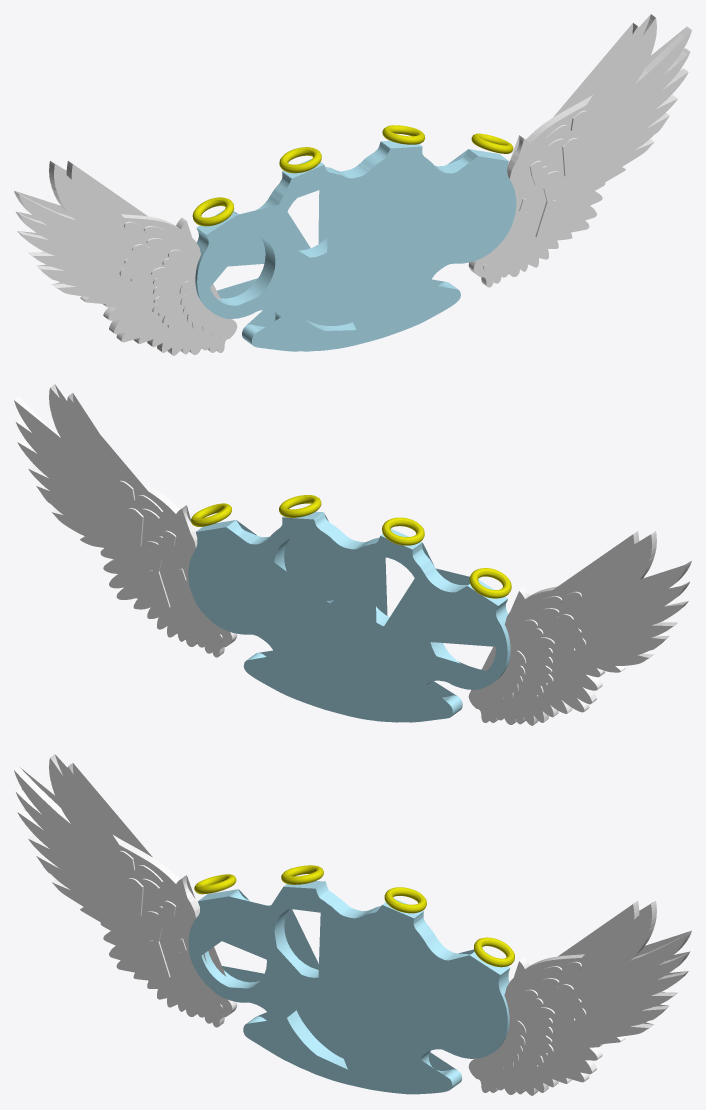
File: LuzModelo.fbx
3 views of the same model, one above another, from view 1: azimuth 30°, elevation 25°; view 2: azimuth 150°, elevation 25°; view 3: azimuth 330°, elevation 25° (orthographic).
Visible parts, largest first — view 1: BezierCurve, BezierCurve.003, BezierCurve.010, BezierCurve.005, BezierCurve.012, BezierCurve.004, BezierCurve.013, BezierCurve.011, BezierCurve.006, Torus, Torus.002, Torus.003 (+1 smaller); view 2: BezierCurve, BezierCurve.010, BezierCurve.003, BezierCurve.009, BezierCurve.016, BezierCurve.014, BezierCurve.015, BezierCurve.008, BezierCurve.007, Torus, Torus.002, Torus.003 (+1 smaller); view 3: BezierCurve, BezierCurve.010, BezierCurve.003, BezierCurve.012, BezierCurve.005, BezierCurve.006, BezierCurve.011, BezierCurve.004, BezierCurve.013, Torus.001, Torus.003, Torus.002 (+1 smaller).
Boxes of the visible parts, left/top/right/bottom form: BezierCurve: left=195, top=140, right=516, bottom=351; BezierCurve.003: left=468, top=14, right=691, bottom=287; BezierCurve.010: left=14, top=161, right=237, bottom=355; BezierCurve.005: left=543, top=110, right=592, bottom=177; BezierCurve.012: left=119, top=221, right=168, bottom=283; BezierCurve.004: left=529, top=160, right=560, bottom=239; BezierCurve.013: left=179, top=280, right=228, bottom=339; BezierCurve.011: left=151, top=249, right=182, bottom=329; BezierCurve.006: left=483, top=198, right=531, bottom=273; Torus: left=192, top=197, right=234, bottom=226; Torus.002: left=279, top=147, right=321, bottom=173; Torus.003: left=382, top=125, right=424, bottom=144; BezierCurve: left=188, top=511, right=510, bottom=722; BezierCurve.010: left=468, top=531, right=691, bottom=725; BezierCurve.003: left=14, top=384, right=237, bottom=657; BezierCurve.009: left=113, top=480, right=162, bottom=547; BezierCurve.016: left=537, top=591, right=586, bottom=653; BezierCurve.014: left=477, top=650, right=526, bottom=709; BezierCurve.015: left=523, top=619, right=554, bottom=699; BezierCurve.008: left=145, top=530, right=176, bottom=608; BezierCurve.007: left=173, top=568, right=222, bottom=644; Torus: left=469, top=568, right=511, bottom=598; Torus.002: left=382, top=517, right=424, bottom=545; Torus.003: left=279, top=495, right=321, bottom=517; BezierCurve: left=188, top=881, right=509, bottom=1094; BezierCurve.010: left=14, top=754, right=237, bottom=1027; BezierCurve.003: left=468, top=901, right=691, bottom=1095; BezierCurve.012: left=113, top=850, right=162, bottom=917; BezierCurve.005: left=537, top=961, right=586, bottom=1023; BezierCurve.006: left=477, top=1020, right=526, bottom=1079; BezierCurve.011: left=145, top=900, right=176, bottom=979; BezierCurve.004: left=523, top=989, right=554, bottom=1069; BezierCurve.013: left=174, top=938, right=222, bottom=1013; Torus.001: left=474, top=937, right=514, bottom=967; Torus.003: left=384, top=887, right=426, bottom=913; Torus.002: left=281, top=865, right=323, bottom=884.
Bounding box in the file's own units: 2429 × 871 × 135.
